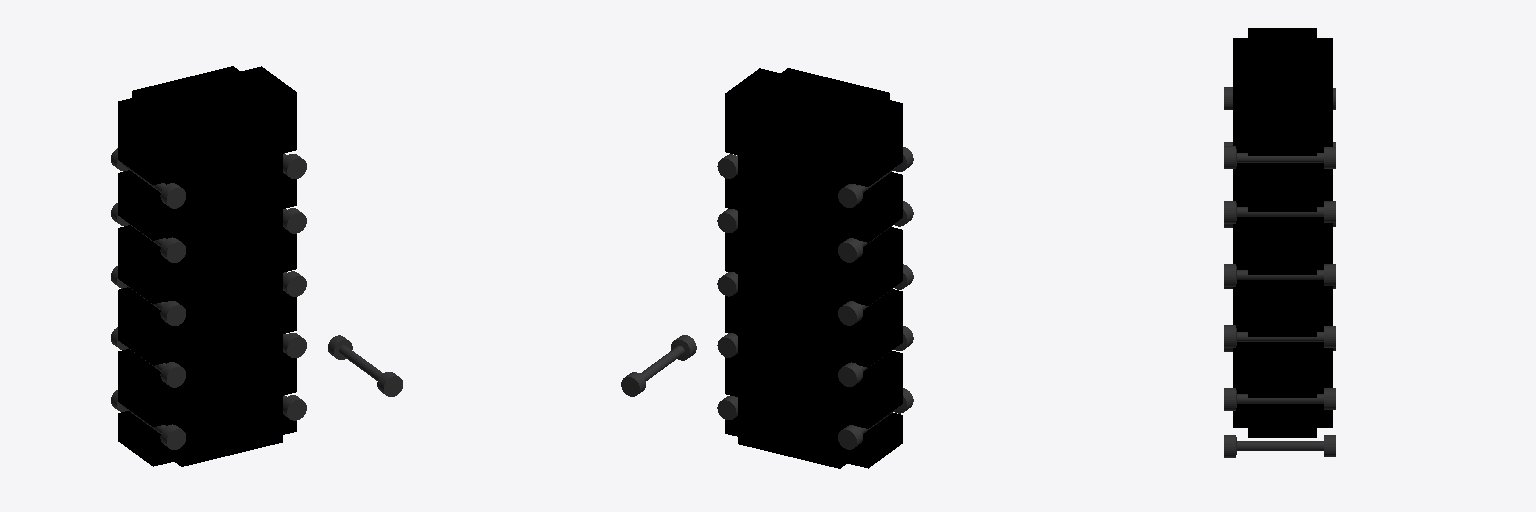
Rendered from Kurzhantel.obj.
3 renders of one model, left to right at view 1: azimuth 30°, elevation 25°; view 2: azimuth 150°, elevation 25°; view 3: azimuth 270°, elevation 25°, orthographic.
Parts seen in each view (by area): view 1: Cube, Cylinder.001; view 2: Cube, Cylinder.001; view 3: Cube, Cylinder.001.
Part boxes in pixels (bbox=[...]): Cube: bbox=[111, 66, 306, 466]; Cylinder.001: bbox=[328, 335, 402, 396]; Cube: bbox=[717, 68, 913, 468]; Cylinder.001: bbox=[621, 335, 696, 396]; Cube: bbox=[1224, 28, 1335, 437]; Cylinder.001: bbox=[1224, 435, 1335, 457].
Size of the model in its own units: 0.5506 by 0.75 by 0.2254.